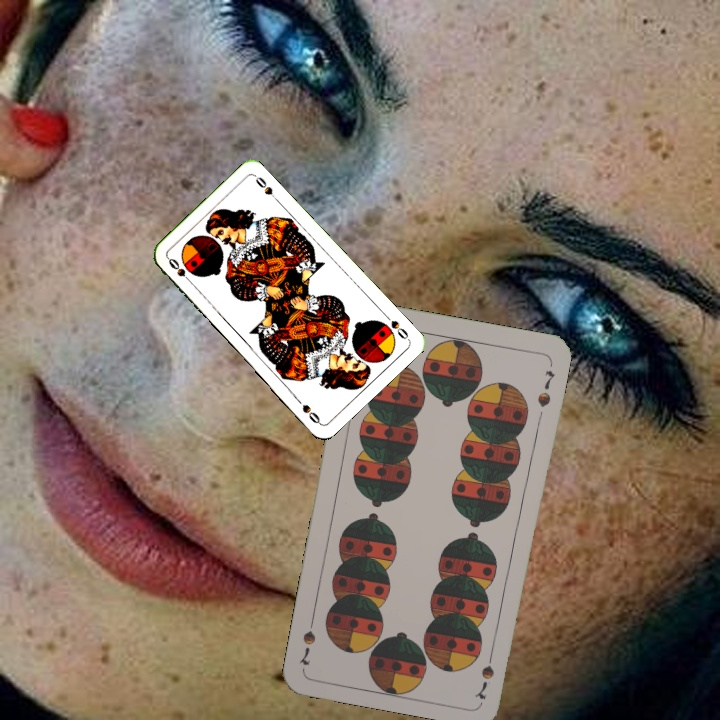S7: (477, 643, 497, 682)
SO: (380, 309, 412, 342), (164, 254, 195, 287)
